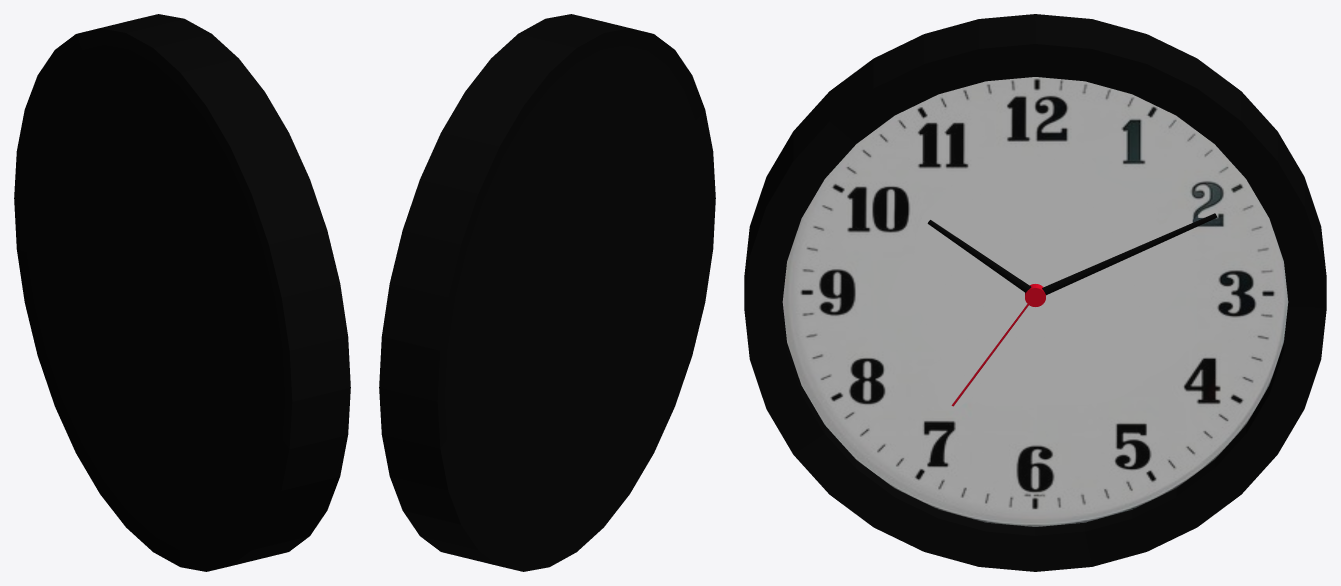
The model's file is Relógio.fbx.
3 views of the same model, side by side, from view 1: azimuth 30°, elevation 25°; view 2: azimuth 150°, elevation 25°; view 3: azimuth 270°, elevation 25° (orthographic). The views are drawn at different scales.
Visible parts, largest first — view 1: Cylinder.001; view 2: Cylinder.001; view 3: Cylinder, Cylinder.001, Cylinder.002, Cylinder.004.
Part boxes in pixels (x1,y1,x2,y2): Cylinder.001: [14, 14, 350, 571]; Cylinder.001: [379, 14, 715, 571]; Cylinder: [782, 77, 1288, 526]; Cylinder.001: [744, 14, 1326, 571]; Cylinder.002: [1042, 213, 1217, 295]; Cylinder.004: [927, 220, 1031, 292].
Size of the model in its own units: 25.96 by 213 by 213.
3 materials, 1 textured.
